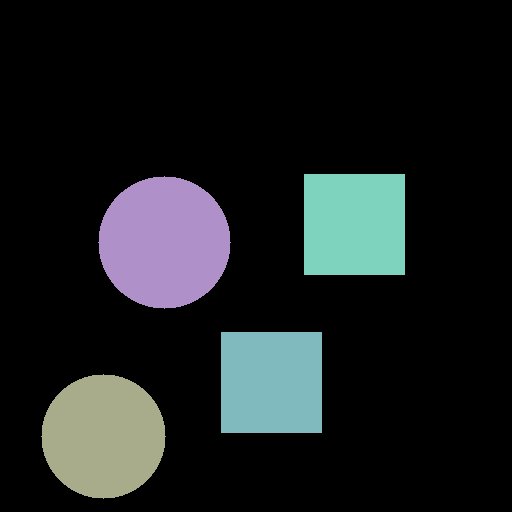circle: (98, 176, 230, 308), (41, 374, 165, 498)
square: (221, 332, 321, 432), (304, 174, 404, 274)
